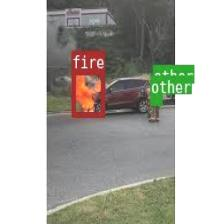fire: (71, 68, 104, 116)
